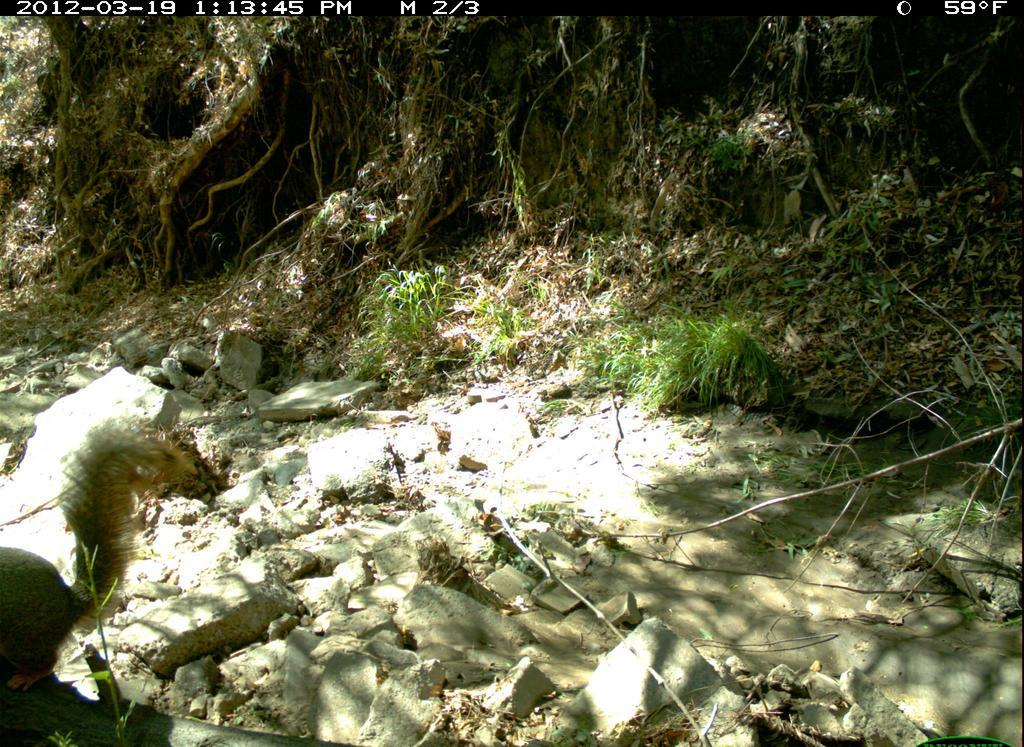squirrel: (1, 411, 213, 722)
